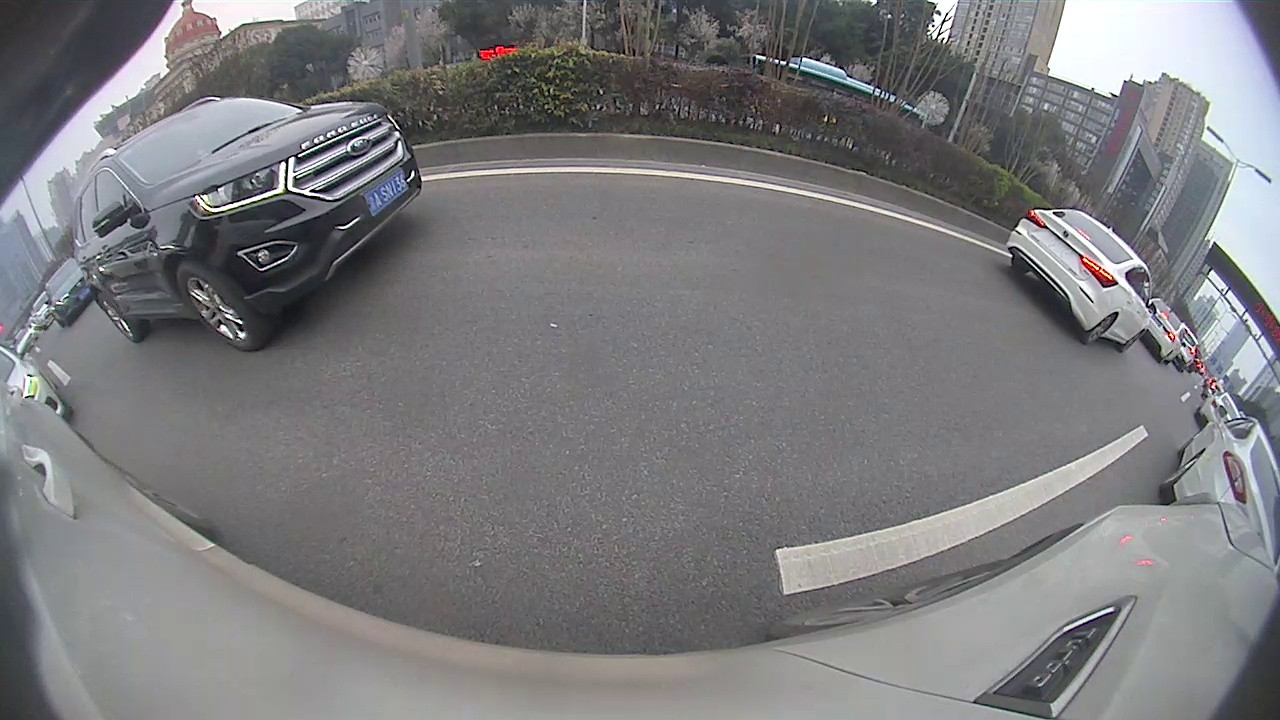car: (68, 96, 423, 356), (1005, 207, 1159, 356), (1160, 405, 1276, 538)
front: (176, 265, 261, 354)
rear: (99, 292, 141, 346), (1082, 314, 1114, 347)
